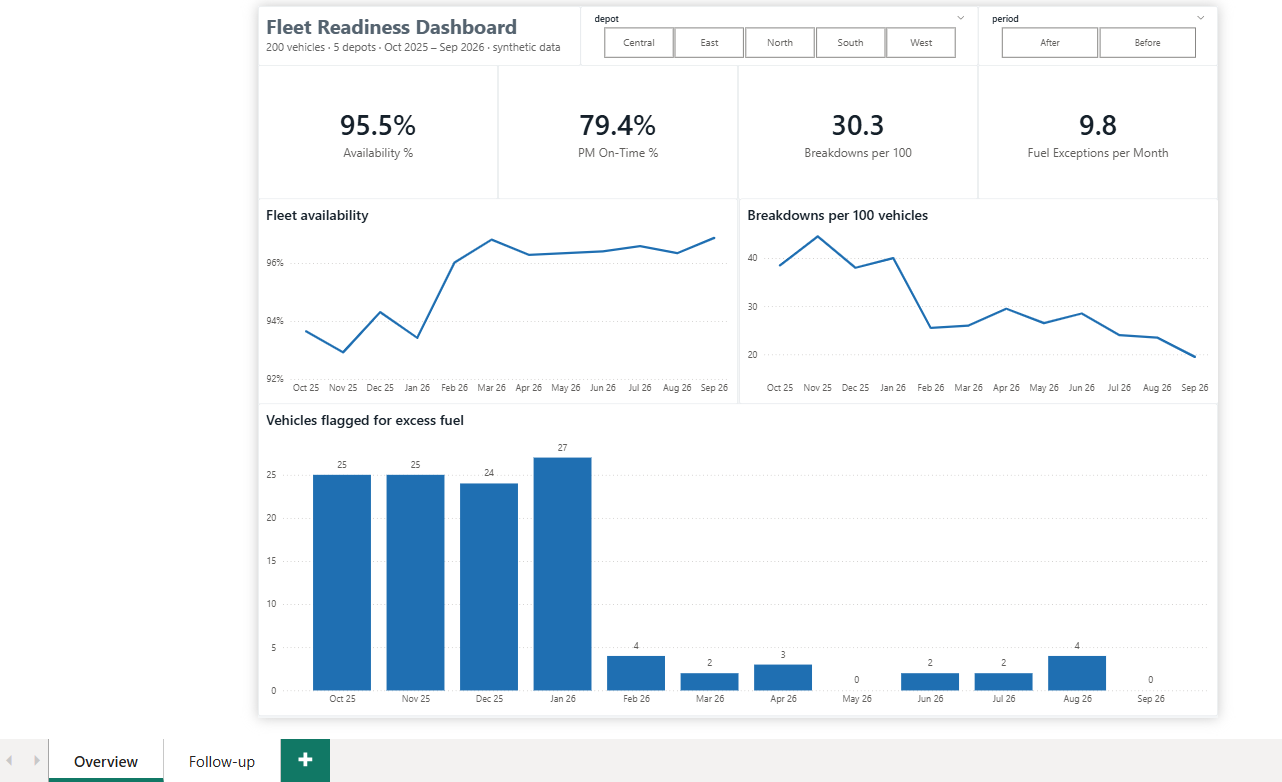

This screenshot's page, from the dashboard's own definition file:
{"tool":"powerbi","page":{"name":"Overview","canvas":[1280,950],"ordinal":0},"visuals":[{"type":"card","fields":{"Values":["_Measures.Availability %"]},"box":[0,78,320,180],"z":0},{"type":"card","fields":{"Values":["_Measures.PM On-Time %"]},"box":[319.7,77.7,319.7,180],"z":1000},{"type":"card","fields":{"Values":["_Measures.Breakdowns per 100"]},"box":[639.4,77.7,319.7,180],"z":2000},{"type":"card","fields":{"Values":["_Measures.Fuel Exceptions per Month"]},"box":[960.6,77.7,319.7,180],"z":3000},{"type":"lineChart","title":"Fleet availability","fields":{"Category":["dim_date.month_label.Variation.Date Hierarchy.Year"],"Y":["_Measures.Availability %"]},"box":[0,255.9,640,275],"z":4000},{"type":"lineChart","title":"Breakdowns per 100 vehicles","fields":{"Category":["dim_date.month_label.Variation.Date Hierarchy.Year"],"Y":["_Measures.Breakdowns per 100"]},"box":[640.9,256.5,639.4,274.5],"z":5000},{"type":"columnChart","title":"Vehicles flagged for excess fuel","fields":{"Category":["dim_date.month_label"],"Y":["_Measures.Fuel Exceptions"]},"box":[0,530,1280,417],"z":5001},{"type":"textbox","box":[0,0,430,80],"z":5002},{"type":"slicer","fields":{"Values":["dim_vehicle.depot"]},"box":[430,0,530,80],"z":5003},{"type":"slicer","fields":{"Values":["dim_date.period"]},"box":[960,0,320,80],"z":5004}]}

Visuals, with their boxes on the page's 1280x950 design canvas (x1, y1, x2, y2). These are canvas units, not pixel positions in the 1282x782 screenshot, which may show the page scaled, cropped or inside an application window:
card - _Measures.Availability %: bbox=[0, 78, 320, 258]
card - _Measures.PM On-Time %: bbox=[320, 78, 639, 258]
card - _Measures.Breakdowns per 100: bbox=[639, 78, 959, 258]
card - _Measures.Fuel Exceptions per Month: bbox=[961, 78, 1280, 258]
"Fleet availability" lineChart: bbox=[0, 256, 640, 531]
"Breakdowns per 100 vehicles" lineChart: bbox=[641, 256, 1280, 531]
"Vehicles flagged for excess fuel" columnChart: bbox=[0, 530, 1280, 947]
textbox: bbox=[0, 0, 430, 80]
slicer - dim_vehicle.depot: bbox=[430, 0, 960, 80]
slicer - dim_date.period: bbox=[960, 0, 1280, 80]
